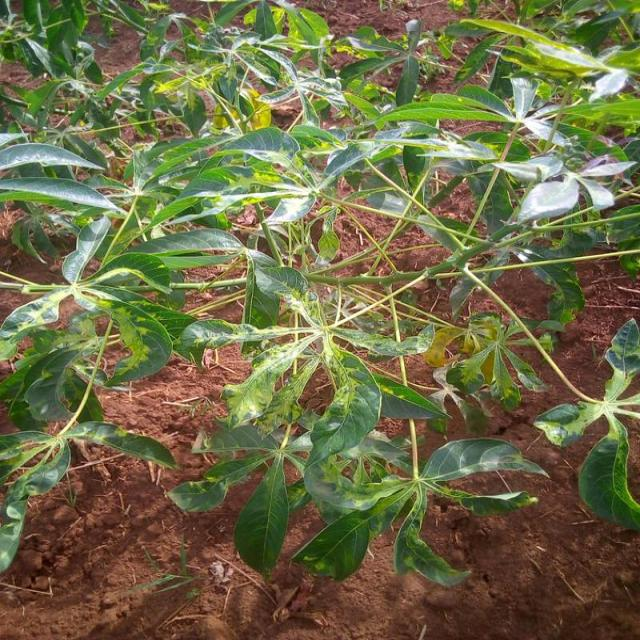Mosaico: (198, 254, 404, 428), (4, 238, 160, 368), (311, 460, 482, 561), (432, 302, 553, 401)
